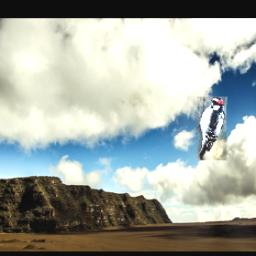Woodpecker: (197, 97, 227, 160)
